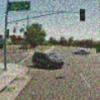traffic lights: (80, 9, 86, 21)
